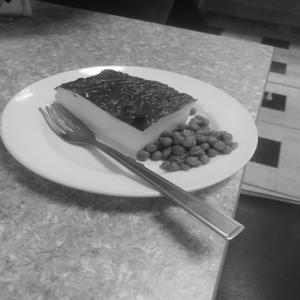casserole: (40, 56, 236, 174)
